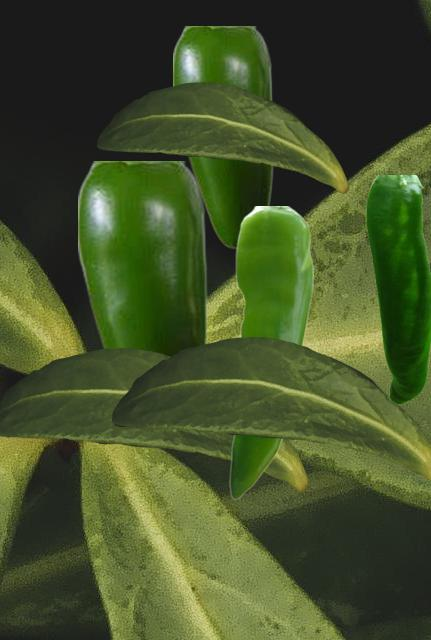green_chili: (78, 161, 206, 355), (229, 206, 312, 498), (173, 26, 272, 248), (366, 175, 429, 403)
